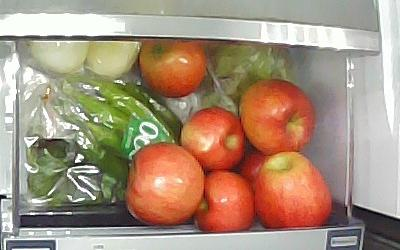apple: (126, 142, 204, 226), (255, 152, 334, 230), (240, 79, 316, 154), (180, 107, 244, 172), (138, 41, 208, 97), (196, 171, 256, 234), (240, 151, 271, 193)
